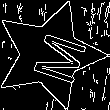M_W: (17, 24, 82, 85)
